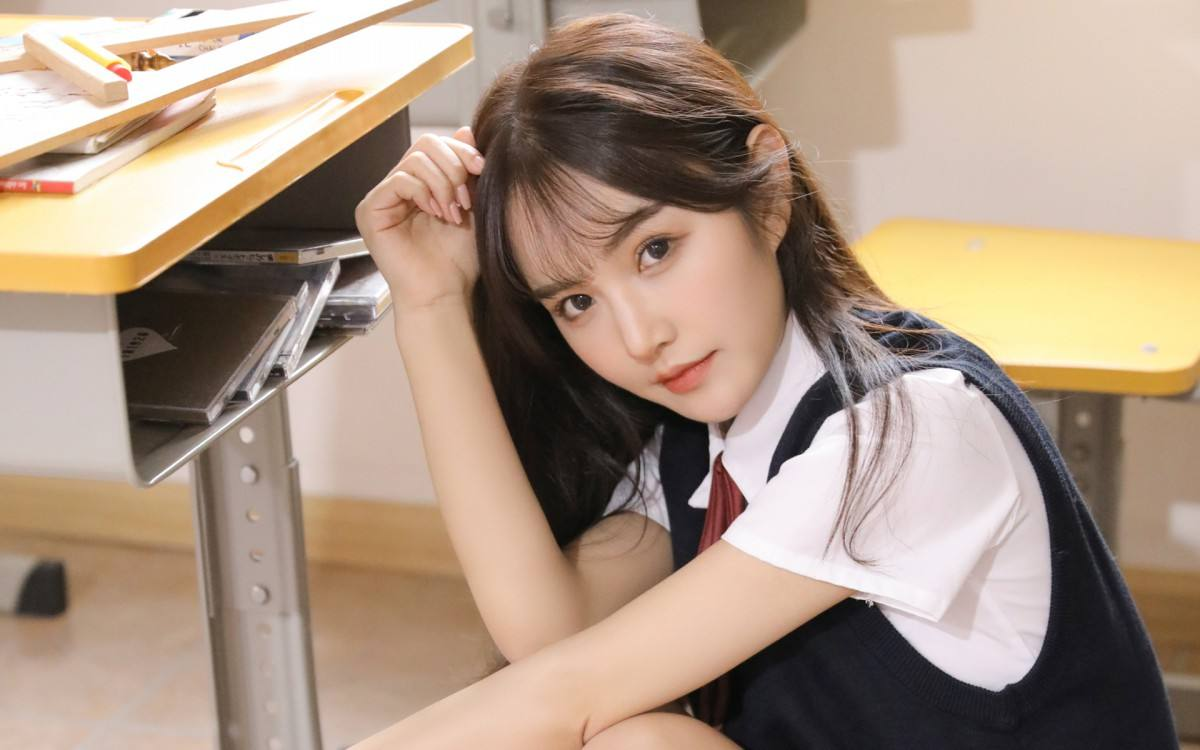person: (362, 39, 1058, 705)
